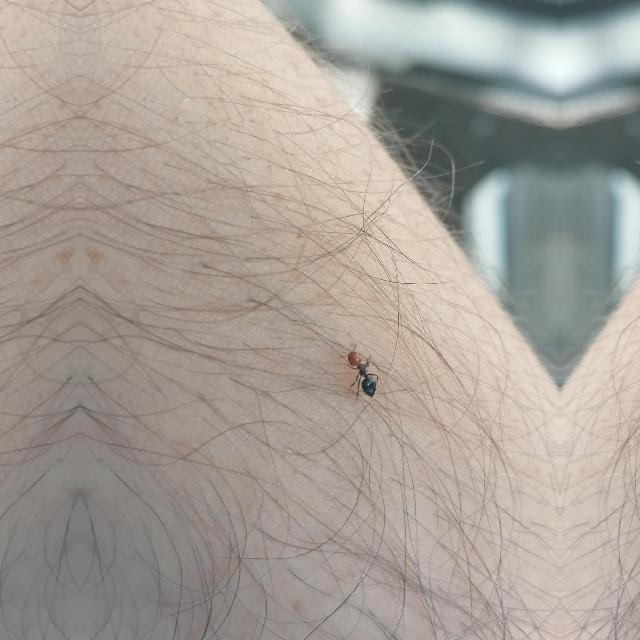Crematogaster: (342, 343, 383, 402)
